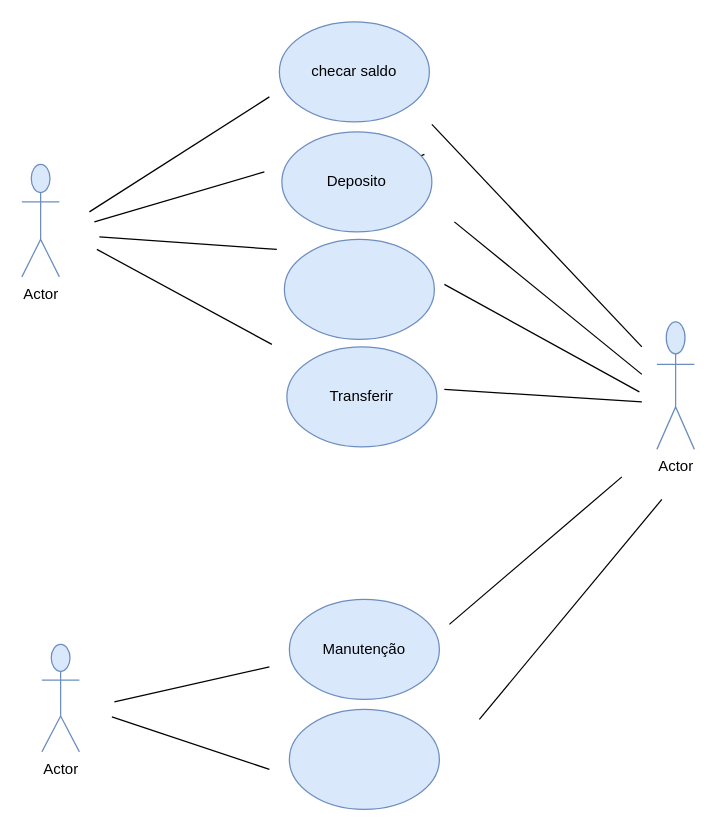
The diagram is 716 pixels wide and 831 high, and some of its shapes have lost their labels. The centre of each missing label's shape, as x and y in pixels:
Reparo: (x=363, y=758)
sacar: (x=358, y=288)
